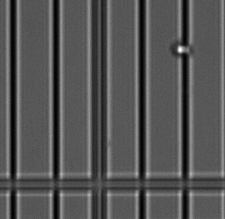Living Cell: (171, 41, 193, 56)
